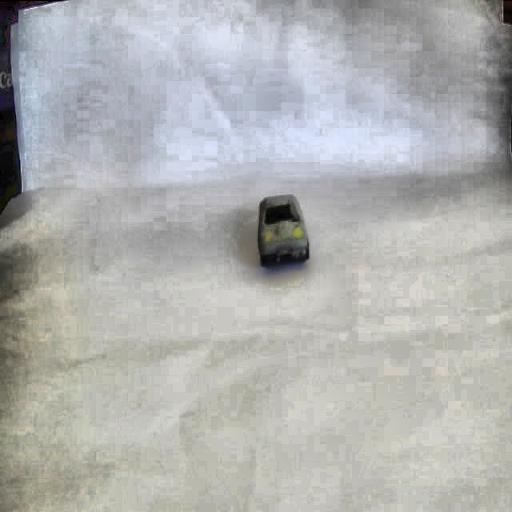normal_car: (256, 194, 310, 268)
